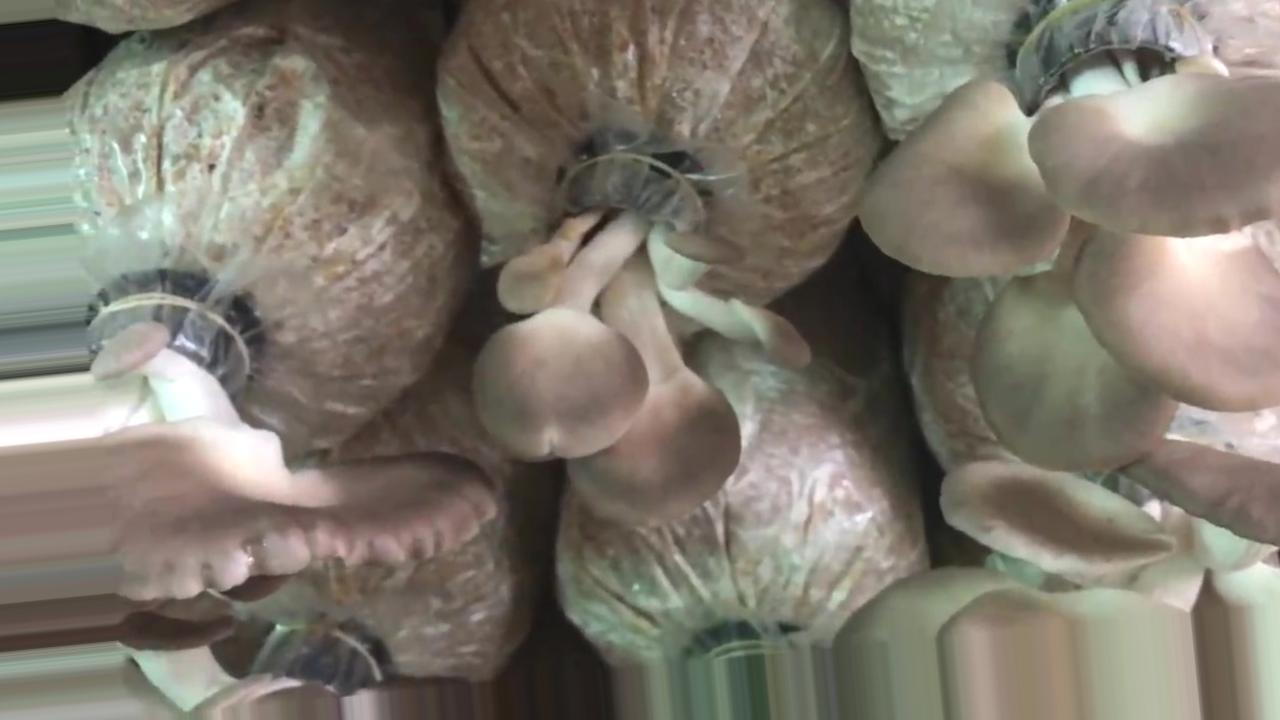nam: (859, 1, 1280, 469), (466, 125, 811, 530), (118, 296, 499, 606), (824, 463, 1280, 627)
